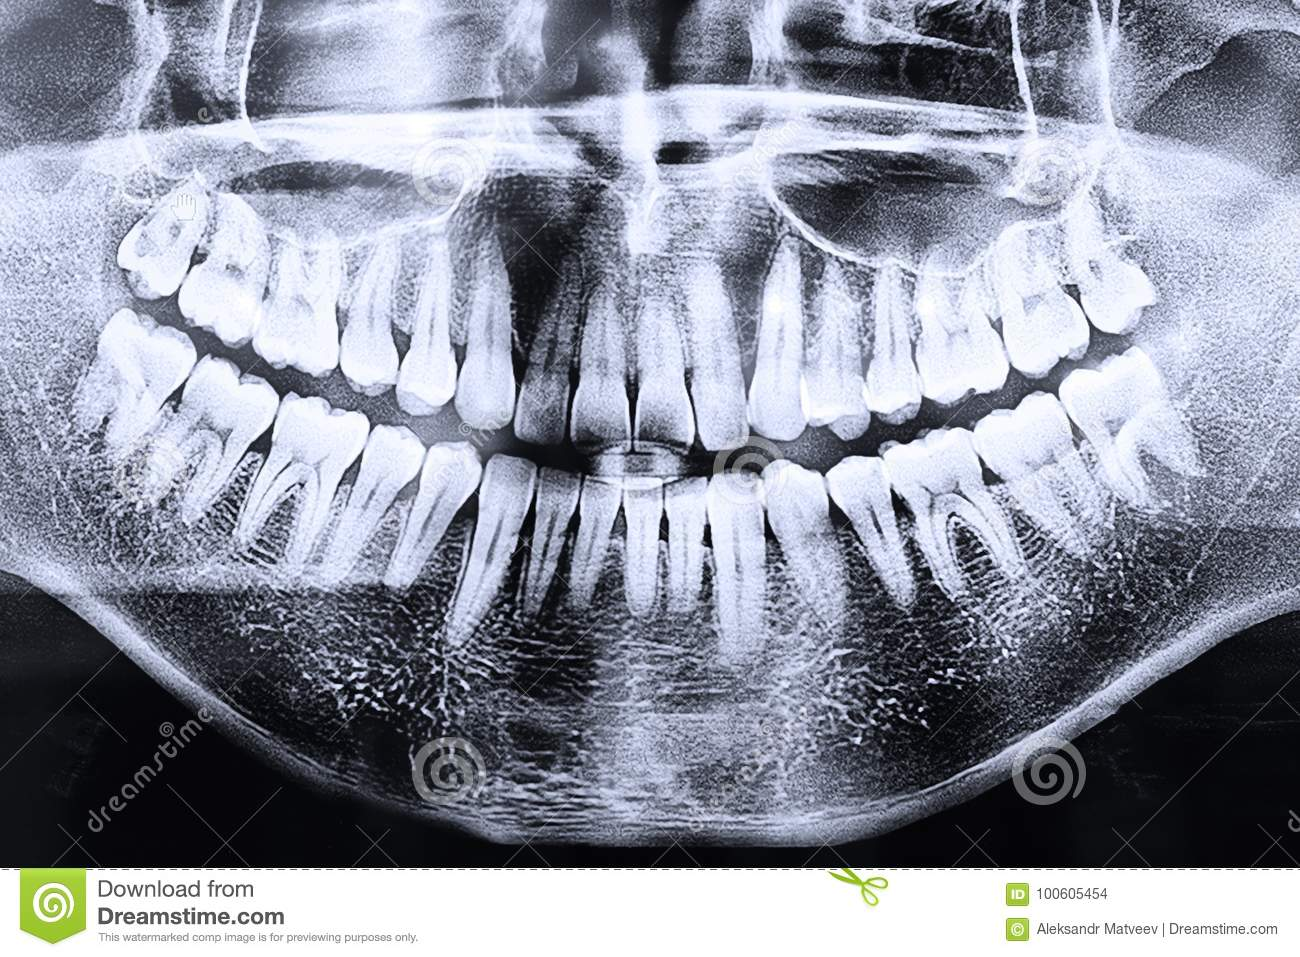canine: (437, 449, 549, 656), (745, 148, 810, 450), (451, 203, 523, 434), (699, 456, 771, 663)
incisor: (679, 225, 754, 456), (517, 210, 582, 448), (624, 273, 699, 457), (570, 254, 640, 454), (508, 461, 586, 628), (667, 465, 708, 646), (574, 471, 626, 610), (623, 471, 663, 631)
molar: (226, 394, 368, 587), (1063, 347, 1218, 519), (879, 425, 1026, 606), (182, 100, 279, 348), (974, 203, 1105, 382), (137, 348, 287, 504), (57, 304, 195, 466), (973, 389, 1104, 559), (115, 81, 213, 304), (254, 171, 349, 376), (911, 222, 1011, 404), (1054, 179, 1167, 334)
premolar: (817, 435, 918, 629), (382, 429, 485, 619), (317, 423, 439, 582), (758, 444, 846, 656), (396, 156, 463, 418), (804, 192, 873, 448), (336, 181, 407, 398), (861, 227, 923, 424)
